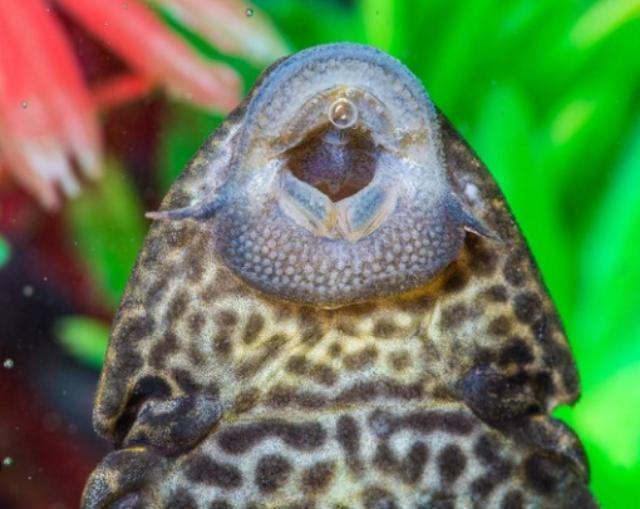Mulut: (215, 28, 473, 302)
